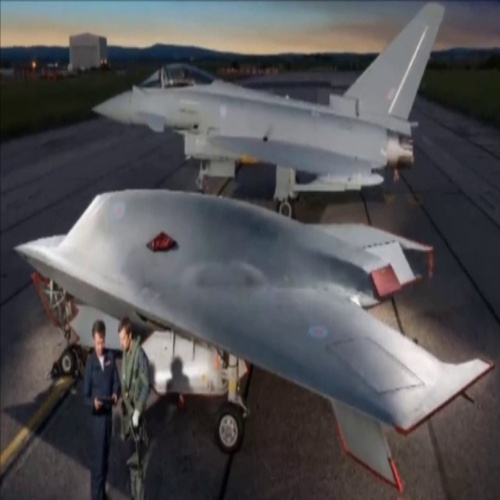uav944: (13, 185, 495, 490)
